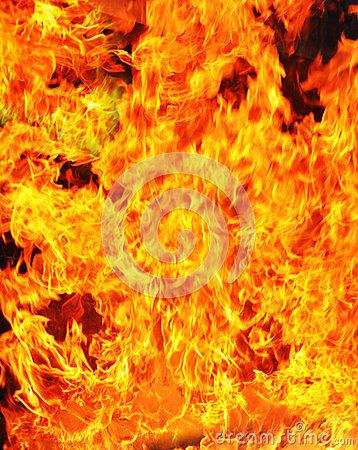fire: (26, 22, 348, 379)
